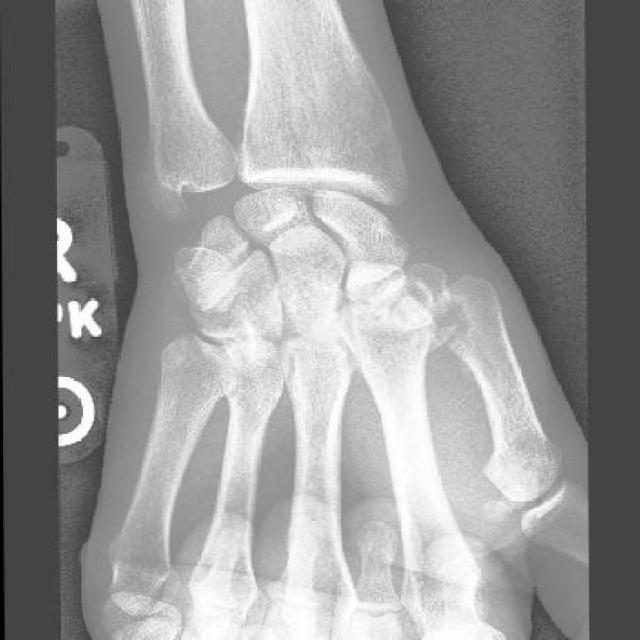Fracture: (416, 265, 498, 356)
